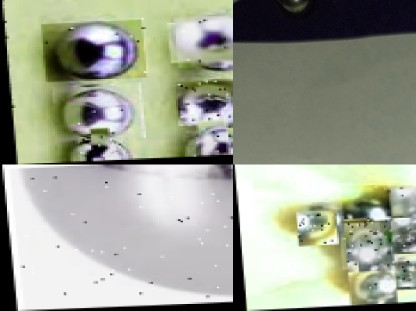ironball: (7, 165, 232, 311), (38, 19, 145, 82), (47, 84, 140, 142), (170, 17, 232, 69), (173, 78, 232, 129), (335, 223, 394, 271), (338, 184, 390, 234), (343, 265, 393, 307), (183, 127, 232, 158), (293, 211, 335, 247), (377, 220, 415, 255), (71, 136, 121, 162), (383, 256, 415, 291), (383, 189, 415, 219)
